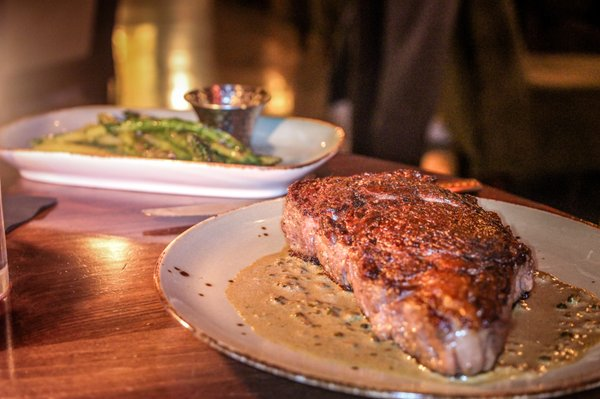pizza: (184, 83, 271, 147)
sushi: (3, 113, 345, 194), (183, 83, 271, 148)
